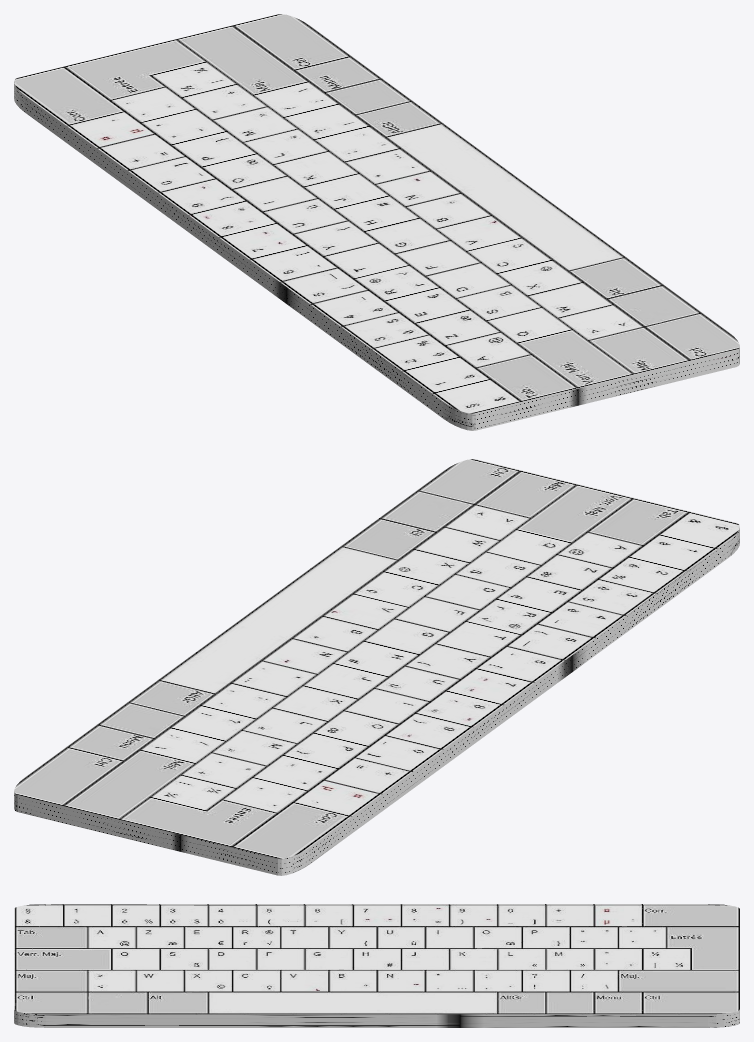
The model's file is Keyboard.dae.
The picture shows the model from 3 angles, top to bottom: view 1: azimuth 30°, elevation 25°; view 2: azimuth 150°, elevation 25°; view 3: azimuth 270°, elevation 25°; orthographic projection. The views are drawn at different scales.
Visible parts, largest first — view 1: Cube; view 2: Cube; view 3: Cube.
Boxes of the visible parts, x1,y1,x2,y2 form: Cube: (14,14,739,430); Cube: (14,459,739,875); Cube: (14,904,739,1027).
Size of the model in its own units: 0.9167 by 2.55 by 0.0524.
1 material, 1 textured.
